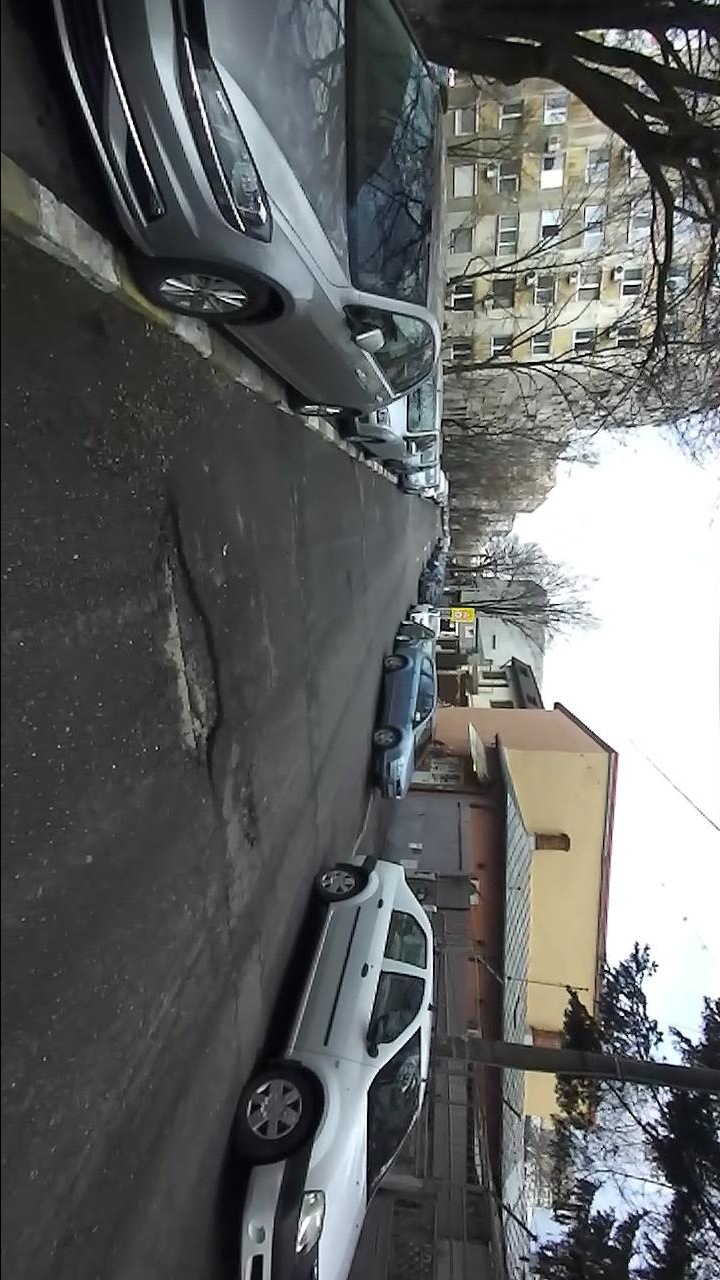pothole: (148, 488, 228, 797), (234, 766, 267, 854)
